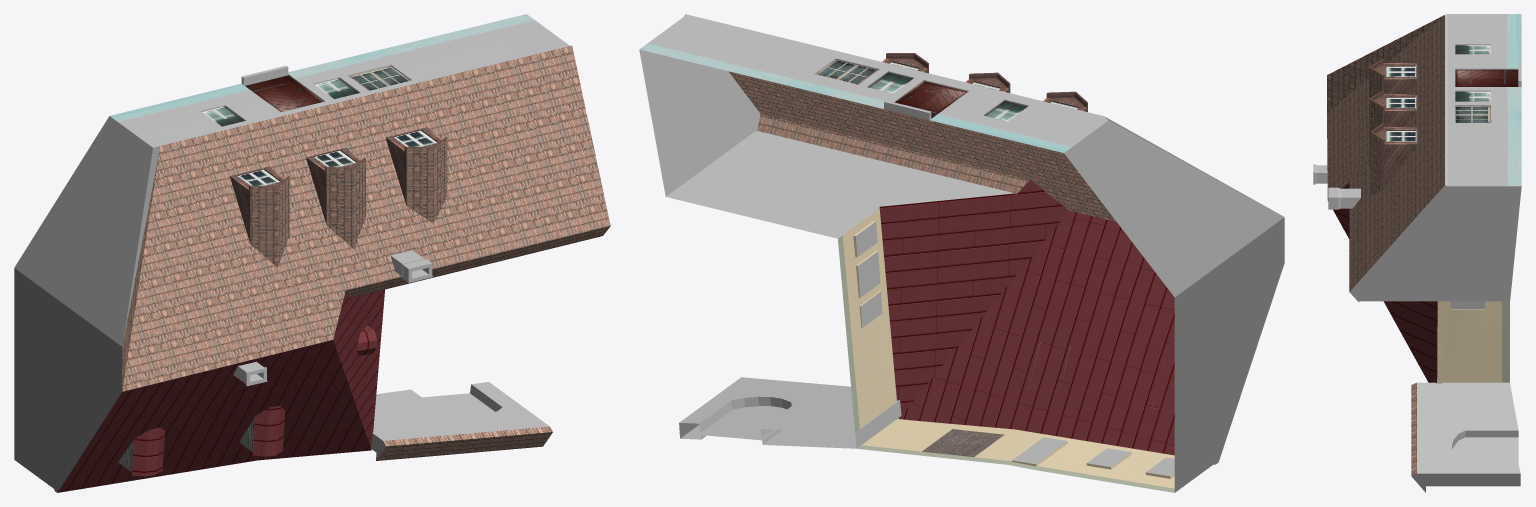
The model's file is Rutu_2.obj.
3 views of the same model, side by side, from view 1: azimuth 30°, elevation 25°; view 2: azimuth 150°, elevation 25°; view 3: azimuth 270°, elevation 25° (orthographic). The views are drawn at different scales.
Parts seen in each view (by area): view 1: Rutu_2; view 2: Rutu_2; view 3: Rutu_2.
Part boxes in pixels (<box>): Rutu_2: <box>14,14,610,492</box>; Rutu_2: <box>639,14,1284,492</box>; Rutu_2: <box>1313,14,1521,492</box>.
Size of the model in its own units: 23.09 by 16.5 by 9.47.
